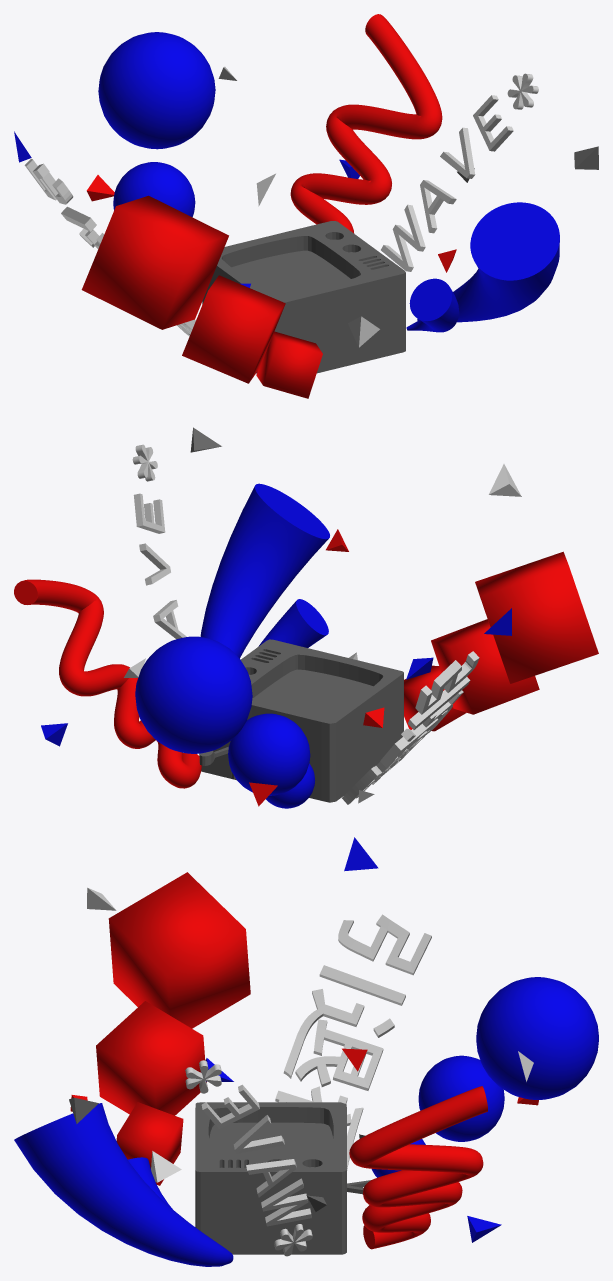
3 renders of one model, top to bottom at view 1: azimuth 30°, elevation 25°; view 2: azimuth 150°, elevation 25°; view 3: azimuth 270°, elevation 25°, orthographic. The views are drawn at different scales.
Parts seen in each view (by area): view 1: MW, Cube, Sphere.003, BézierCurve, Curve_big.001, Cube.001, *WAVE*.001, Cube.002, Sphere.002, Curve_small.001, intaiban.003, Cone.007 (+1 smaller); view 2: MW, Curve_big.001, Sphere.003, Cube, BézierCurve, Sphere.002, Cube.001, intaiban.003, *WAVE*.001, Curve_small.001, Cube.002, Sphere.001 (+1 smaller); view 3: MW, Cube, Curve_big.001, BézierCurve, Sphere.003, Cube.001, intaiban.003, *WAVE*.001, Sphere.002, Cube.002, Cone.013, Curve_small.001.
Part boxes in pixels (<box>): MW: <box>202,221,405,373</box>; Cube: <box>81,195,228,329</box>; Sphere.003: <box>98,32,215,149</box>; BézierCurve: <box>290,14,442,233</box>; Curve_big.001: <box>417,202,559,322</box>; Cube.001: <box>182,275,285,383</box>; *WAVE*.001: <box>381,73,538,271</box>; Cube.002: <box>256,331,322,398</box>; Sphere.002: <box>113,162,195,217</box>; Curve_small.001: <box>406,278,459,332</box>; intaiban.003: <box>24,158,195,336</box>; Cone.007: <box>348,316,379,347</box>; MW: <box>199,639,403,802</box>; Curve_big.001: <box>200,483,329,658</box>; Sphere.003: <box>135,636,252,753</box>; Cube: <box>475,551,598,683</box>; BézierCurve: <box>14,579,201,788</box>; Sphere.002: <box>228,713,310,795</box>; Cube.001: <box>431,619,539,714</box>; intaiban.003: <box>342,651,479,804</box>; *WAVE*.001: <box>132,444,186,639</box>; Curve_small.001: <box>258,599,328,647</box>; Cube.002: <box>404,665,466,731</box>; Sphere.001: <box>266,763,315,808</box>; MW: <box>195,1102,370,1254</box>; Cube: <box>108,872,250,1028</box>; Curve_big.001: <box>14,1103,233,1266</box>; BézierCurve: <box>349,1086,487,1249</box>; Sphere.003: <box>476,977,598,1099</box>; Cube.001: <box>96,1001,206,1115</box>; intaiban.003: <box>275,914,431,1170</box>; *WAVE*.001: <box>185,1060,312,1256</box>; Sphere.002: <box>418,1055,504,1141</box>; Cube.002: <box>116,1102,183,1185</box>; Cone.013: <box>344,837,378,871</box>; Curve_small.001: <box>128,1157,172,1208</box>.
Bounding box in the file's own units: 2.7 × 1.46 × 2.81.
